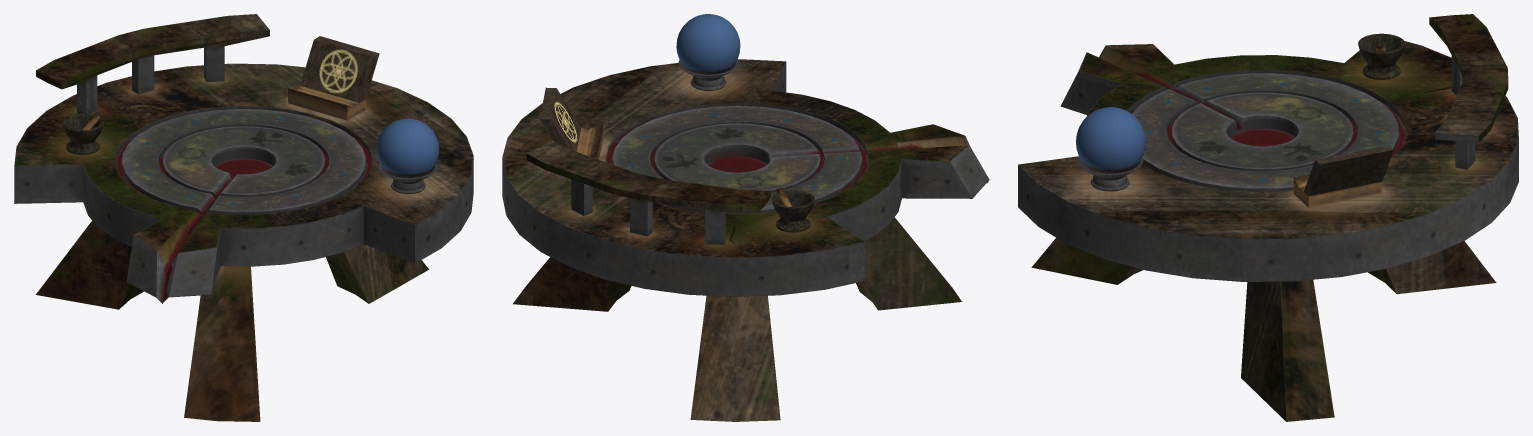
The model's file is AlchemyTable.fbx.
The picture shows the model from 3 angles, left to right: view 1: azimuth 30°, elevation 25°; view 2: azimuth 150°, elevation 25°; view 3: azimuth 270°, elevation 25°; orthographic projection. The views are drawn at different scales.
Parts seen in each view (by area): view 1: AlchemyTable; view 2: AlchemyTable; view 3: AlchemyTable.
Boxes of the visible parts, left/top/right/bottom form: AlchemyTable: left=14, top=14, right=473, bottom=421; AlchemyTable: left=502, top=14, right=989, bottom=421; AlchemyTable: left=1018, top=14, right=1518, bottom=421.
Size of the model in its own units: 184 by 107 by 190.
